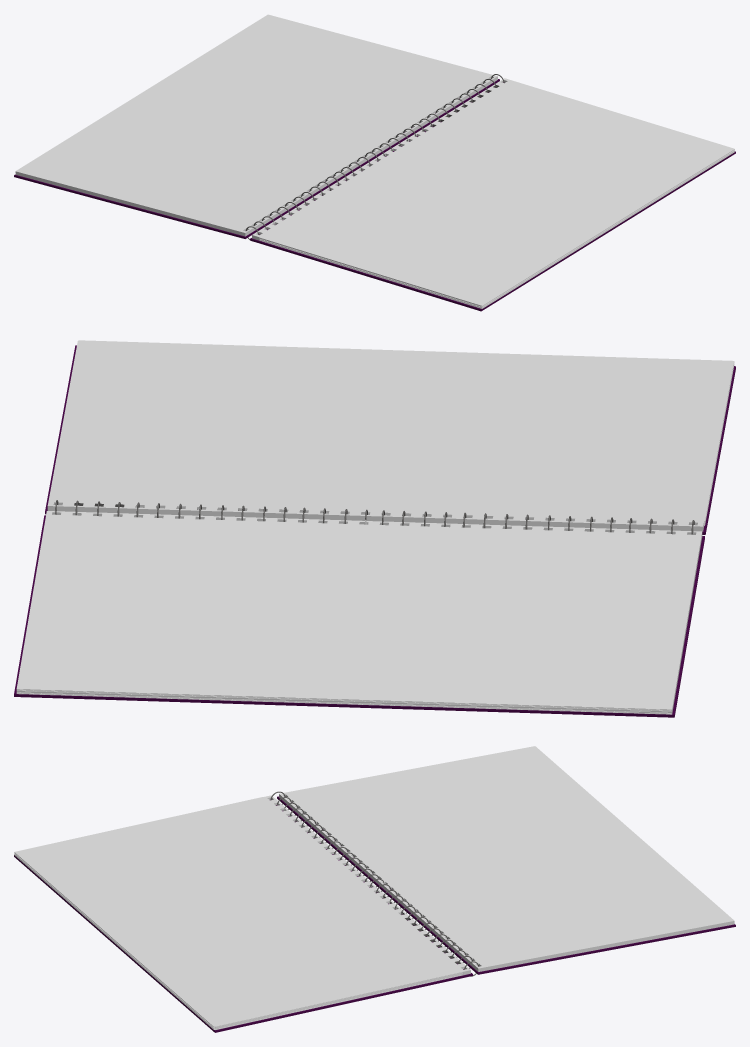
Rendered from DeskNotebook.fbx.
3 renders of one model, top to bottom at view 1: azimuth 30°, elevation 25°; view 2: azimuth 150°, elevation 25°; view 3: azimuth 270°, elevation 25°, orthographic. The views are drawn at different scales.
Parts seen in each view (by area): view 1: Notebook; view 2: Notebook; view 3: Notebook.
Part boxes in pixels (x1,y1,x2,y2): Notebook: (14,14,735,311); Notebook: (14,340,735,717); Notebook: (14,746,735,1032).
Size of the model in its own units: 379 by 9.55 by 409.
